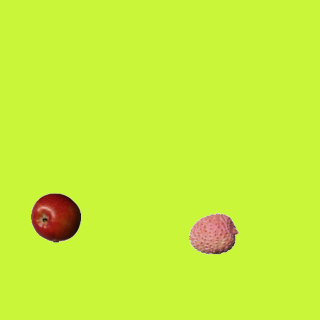Apple Braeburn: (30, 192, 80, 242)
Lychee: (188, 208, 238, 258)
